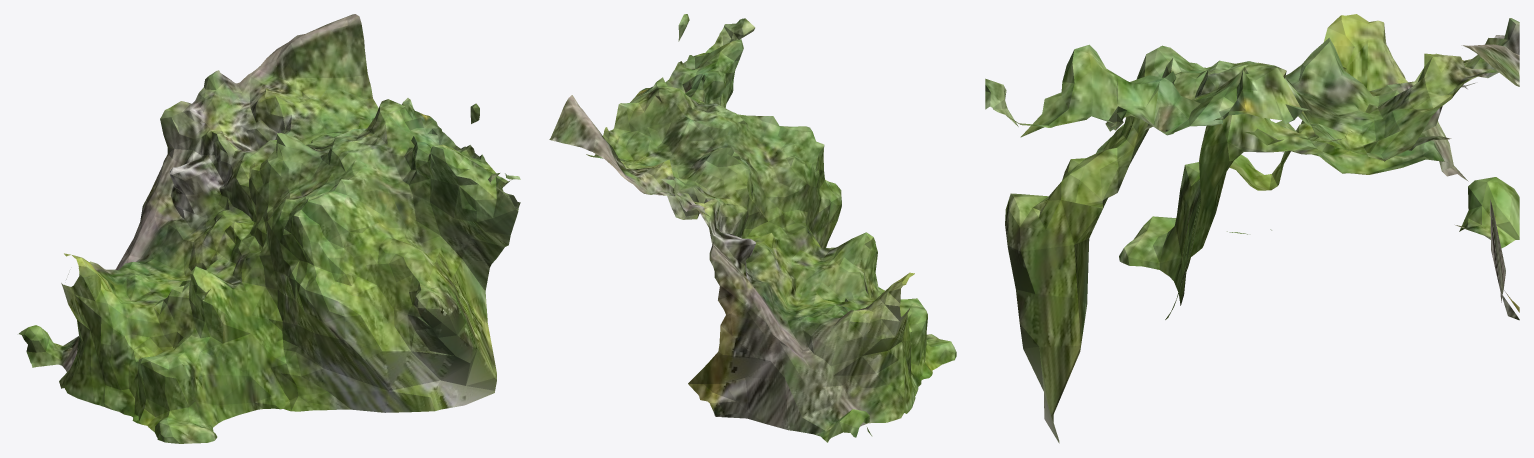
3 views of the same model, side by side, from view 1: azimuth 30°, elevation 25°; view 2: azimuth 150°, elevation 25°; view 3: azimuth 270°, elevation 25° (orthographic). The views are drawn at different scales.
Bounding box in the file's own units: 2.95 × 2.43 × 2.95.
4 materials, 4 textured.
